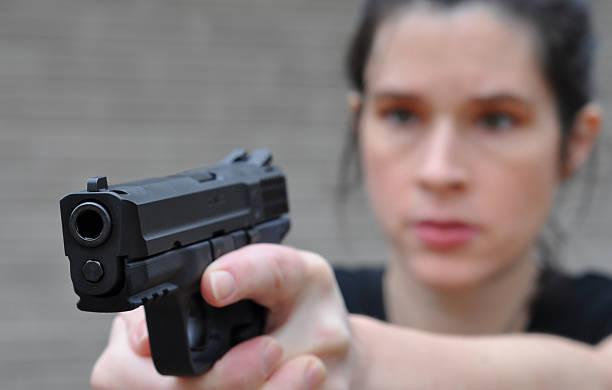weapon: (57, 144, 294, 377)
